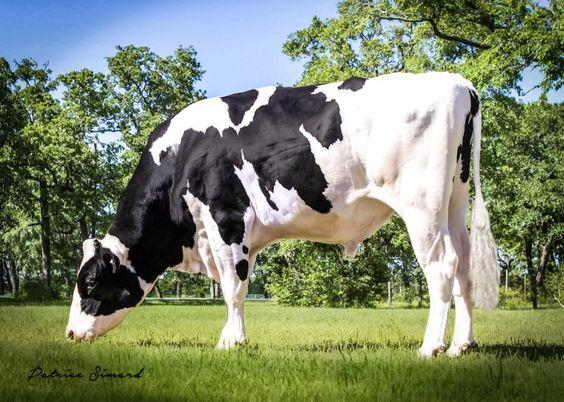cow: (46, 60, 502, 331)
